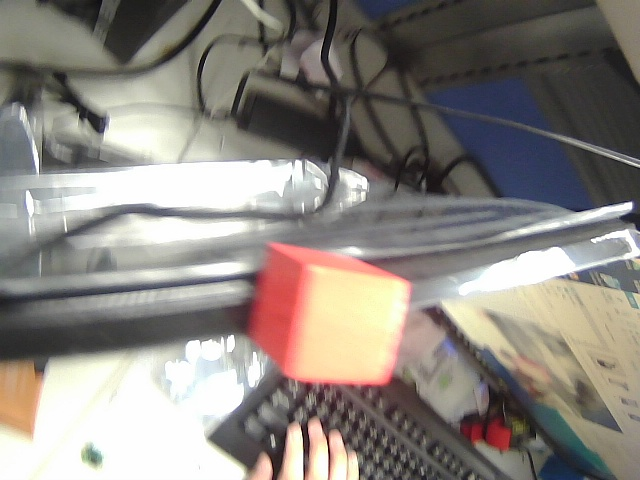redbox: (243, 228, 422, 403)
